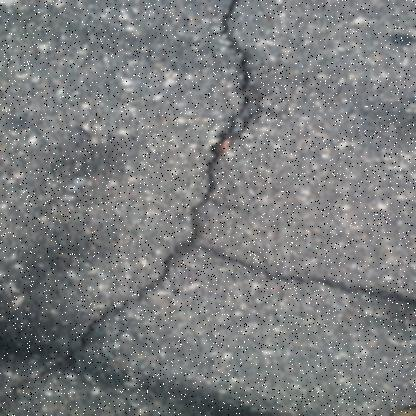Cracks: (0, 0, 267, 402), (178, 236, 416, 311)
